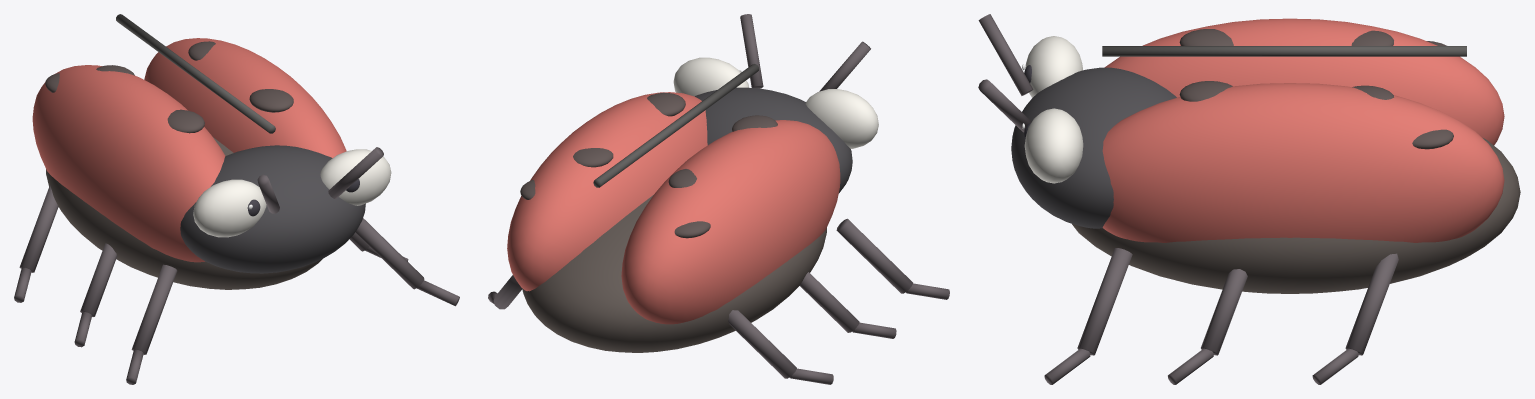
File: ladybird-seven-spot.glb
The picture shows the model from 3 angles, left to right: view 1: azimuth 30°, elevation 25°; view 2: azimuth 150°, elevation 25°; view 3: azimuth 270°, elevation 25°; orthographic projection. The views are drawn at different scales.
Visible parts, largest first — view 1: material_bc2f28, material_161517, material_262023, material_221c19, material_eae4d4, material_1e1716, material_1d1c1b; view 2: material_bc2f28, material_221c19, material_262023, material_eae4d4, material_161517, material_1e1716, material_1d1c1b; view 3: material_bc2f28, material_221c19, material_161517, material_262023, material_eae4d4, material_1d1c1b, material_1e1716.
Part boxes in pixels (box(x1,y1,x2,y2)): material_bc2f28: box(32, 38, 346, 262); material_161517: box(180, 145, 365, 273); material_262023: box(14, 147, 459, 384); material_221c19: box(46, 137, 322, 289); material_eae4d4: box(193, 149, 391, 237); material_1e1716: box(45, 41, 293, 133); material_1d1c1b: box(116, 14, 275, 133); material_bc2f28: box(507, 92, 840, 324); material_221c19: box(522, 195, 826, 352); material_262023: box(488, 14, 949, 384); material_eae4d4: box(673, 57, 878, 148); material_161517: box(695, 87, 852, 193); material_1e1716: box(520, 92, 777, 238); material_1d1c1b: box(593, 64, 758, 187); material_bc2f28: box(1102, 18, 1504, 242); material_221c19: box(1072, 137, 1520, 293); material_161517: box(1011, 67, 1176, 228); material_262023: box(978, 14, 1398, 384); material_eae4d4: box(1024, 36, 1083, 183); material_1d1c1b: box(1102, 46, 1466, 56); material_1e1716: box(1179, 29, 1453, 149).
Size of the model in its own units: 0.8584 by 0.5013 by 1.01.
